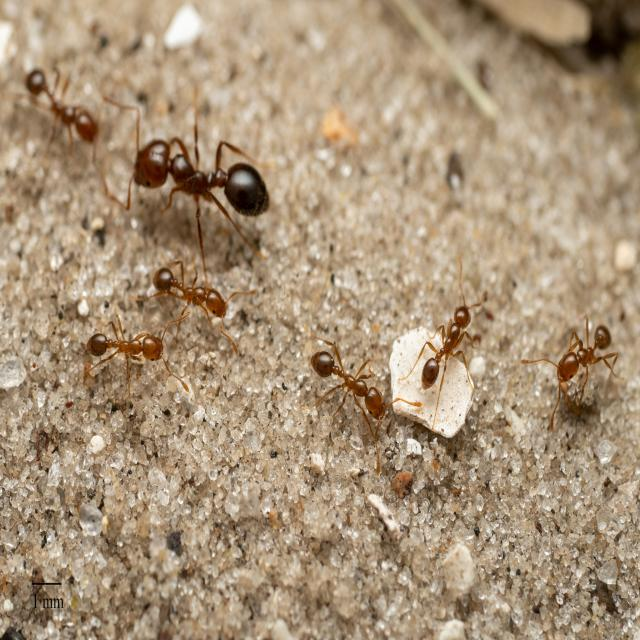ants: (131, 113, 283, 269), (29, 55, 115, 177), (411, 282, 486, 412), (306, 332, 389, 439), (92, 303, 179, 402), (542, 314, 615, 426), (148, 256, 237, 342)
